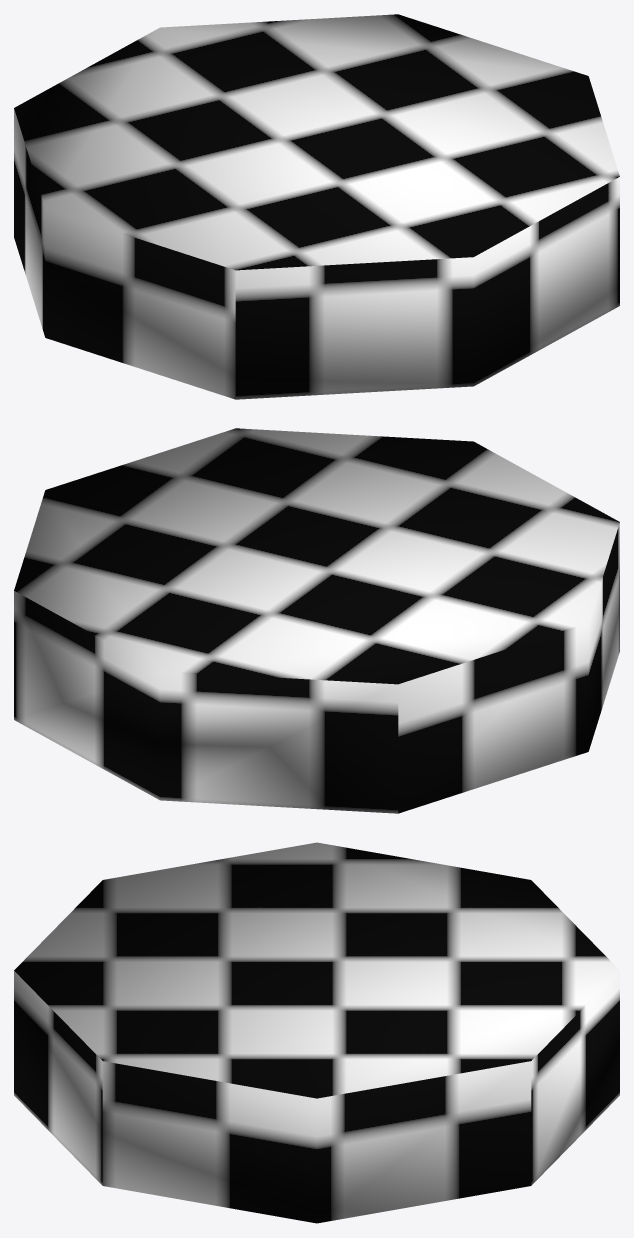
Rendered from sttr126.dae.
3 views of the same model, one above another, from view 1: azimuth 30°, elevation 25°; view 2: azimuth 150°, elevation 25°; view 3: azimuth 270°, elevation 25° (orthographic). The views are drawn at different scales.
Visible parts, largest first — view 1: base1; view 2: base1; view 3: base1.
Part boxes in pixels (<box>): base1: <box>14,14,619,399</box>; base1: <box>14,428,619,813</box>; base1: <box>14,842,619,1223</box>.
Size of the model in its own units: 0.3204 by 0.3204 by 0.0729.
1 material, 1 textured.
